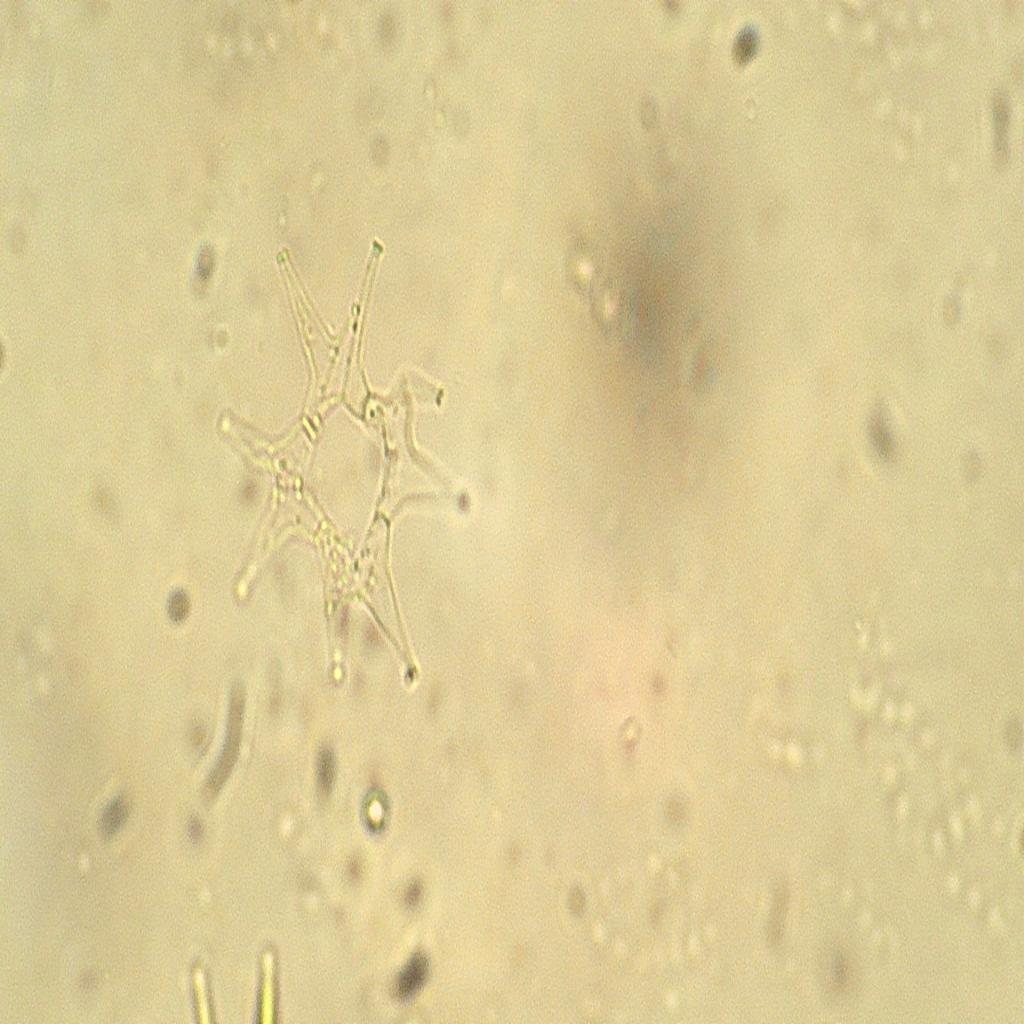Pediastrum_75TH: (203, 230, 485, 710)
